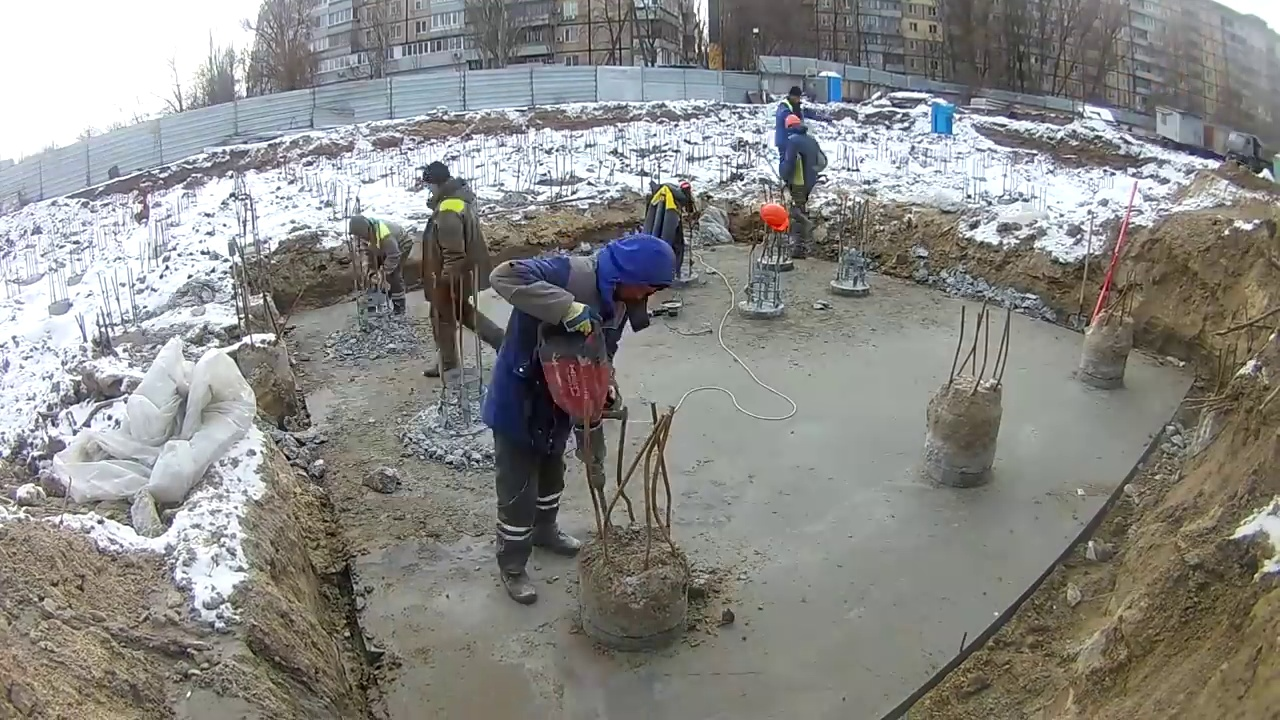helmet: (784, 115, 800, 130)
helmet-off: (604, 237, 672, 316), (419, 161, 461, 207), (348, 215, 381, 246), (786, 86, 803, 108)
helmet-on: (759, 203, 789, 231), (782, 115, 804, 140)
person: (485, 222, 675, 600), (416, 161, 483, 383), (346, 211, 411, 324), (779, 115, 826, 262), (774, 86, 806, 152)
